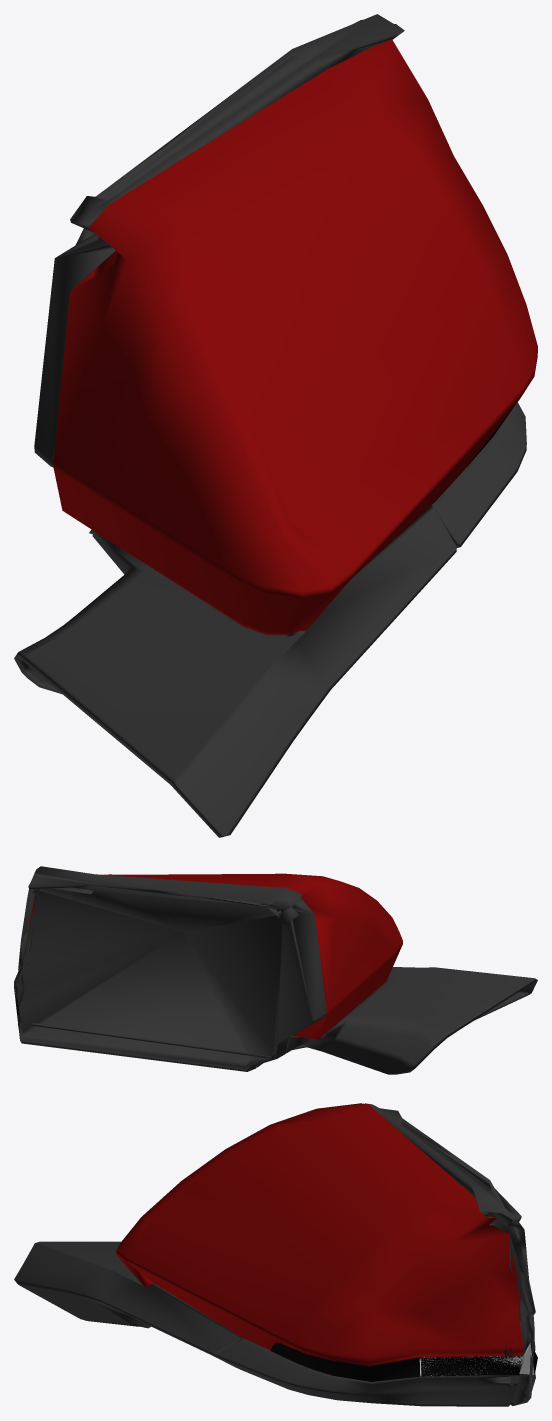
Rendered from mirror_2.0_1.fbx.
3 views of the same model, one above another, from view 1: azimuth 30°, elevation 25°; view 2: azimuth 150°, elevation 25°; view 3: azimuth 270°, elevation 25° (orthographic). The views are drawn at different scales.
Parts seen in each view (by area): view 1: Ford:MirrorL6_Mesh_026_M_Opaque_PlasticSmoothBlack_Max_013, Ford:MirrorBaseL6_Mesh_024_M_Opaque_PlasticSmoothBlack_Max_0, Ford:MirrorL6_Mesh_026_M_Opaque_PlasticSmoothBlack_Max_007; view 2: Ford:MirrorL6_Mesh_026_M_Opaque_PlasticSmoothBlack_Max_007, Ford:MirrorBaseL6_Mesh_024_M_Opaque_PlasticSmoothBlack_Max_0, Ford:MirrorL6_Mesh_026_M_Opaque_PlasticSmoothBlack_Max_013; view 3: Ford:MirrorL6_Mesh_026_M_Opaque_PlasticSmoothBlack_Max_013, Ford:MirrorL6_Mesh_026_M_Opaque_PlasticSmoothBlack_Max_007, Ford:MirrorBaseL6_Mesh_024_M_Opaque_PlasticSmoothBlack_Max_0, Ford:MirrorL6_Mesh_026_M_Opaque_PlasticSmoothBlack_Max_010, Ford:MirrorL6_Mesh_026_M_Opaque_PlasticSmoothBlack_Max_011.
Part boxes in pixels (left/top/right/bottom): Ford:MirrorL6_Mesh_026_M_Opaque_PlasticSmoothBlack_Max_013: left=53, top=39, right=537, bottom=634; Ford:MirrorBaseL6_Mesh_024_M_Opaque_PlasticSmoothBlack_Max_0: left=14, top=505, right=456, bottom=837; Ford:MirrorL6_Mesh_026_M_Opaque_PlasticSmoothBlack_Max_007: left=34, top=14, right=526, bottom=547; Ford:MirrorL6_Mesh_026_M_Opaque_PlasticSmoothBlack_Max_007: left=14, top=866, right=326, bottom=1071; Ford:MirrorBaseL6_Mesh_024_M_Opaque_PlasticSmoothBlack_Max_0: left=292, top=967, right=537, bottom=1074; Ford:MirrorL6_Mesh_026_M_Opaque_PlasticSmoothBlack_Max_013: left=26, top=873, right=402, bottom=1039; Ford:MirrorL6_Mesh_026_M_Opaque_PlasticSmoothBlack_Max_013: left=116, top=1103, right=523, bottom=1365; Ford:MirrorL6_Mesh_026_M_Opaque_PlasticSmoothBlack_Max_007: left=216, top=1103, right=535, bottom=1406; Ford:MirrorBaseL6_Mesh_024_M_Opaque_PlasticSmoothBlack_Max_0: left=14, top=1241, right=243, bottom=1367; Ford:MirrorL6_Mesh_026_M_Opaque_PlasticSmoothBlack_Max_010: left=270, top=1342, right=537, bottom=1381; Ford:MirrorL6_Mesh_026_M_Opaque_PlasticSmoothBlack_Max_011: left=419, top=1342, right=534, bottom=1376.
Bounding box in the file's own units: 0.2265 × 0.1459 × 0.2683.
